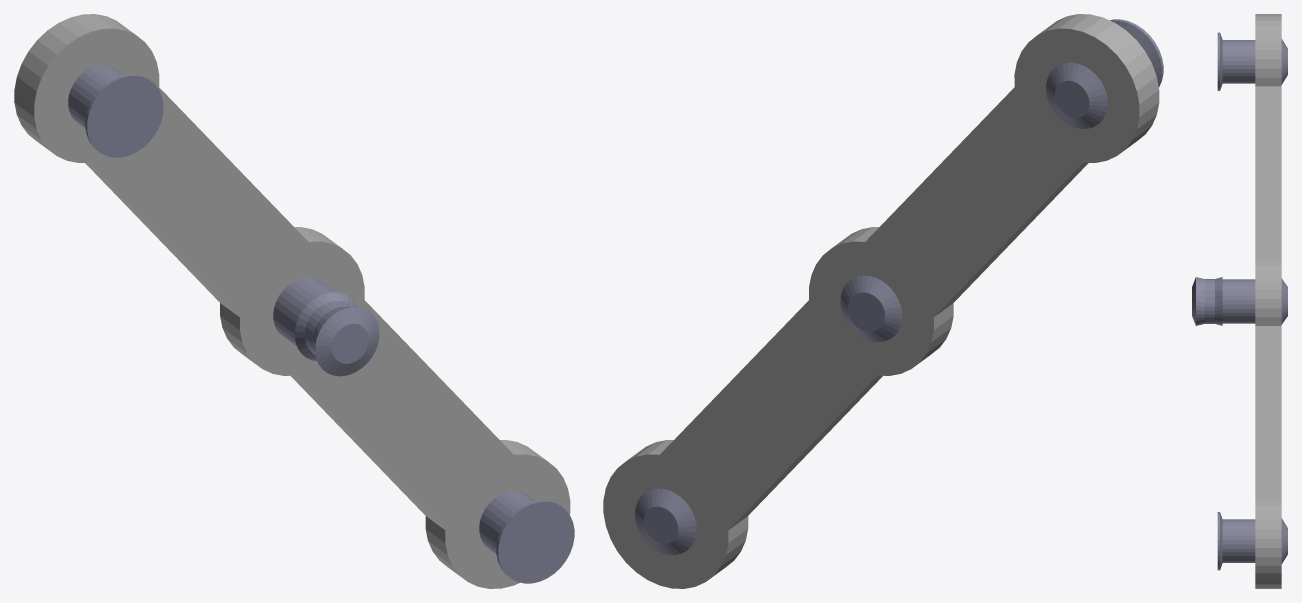
Rendered from felislinkB.dae.
3 renders of one model, left to right at view 1: azimuth 30°, elevation 25°; view 2: azimuth 150°, elevation 25°; view 3: azimuth 270°, elevation 25°, orthographic. The views are drawn at different scales.
Visible parts, largest first — view 1: LinkBB; view 2: LinkBB; view 3: LinkBB.
Boxes of the visible parts, x1,y1,x2,y2 form: LinkBB: [14, 14, 574, 588]; LinkBB: [603, 14, 1163, 588]; LinkBB: [1192, 14, 1287, 588].
Size of the model in its own units: 2.56 by 0.6023 by 3.
